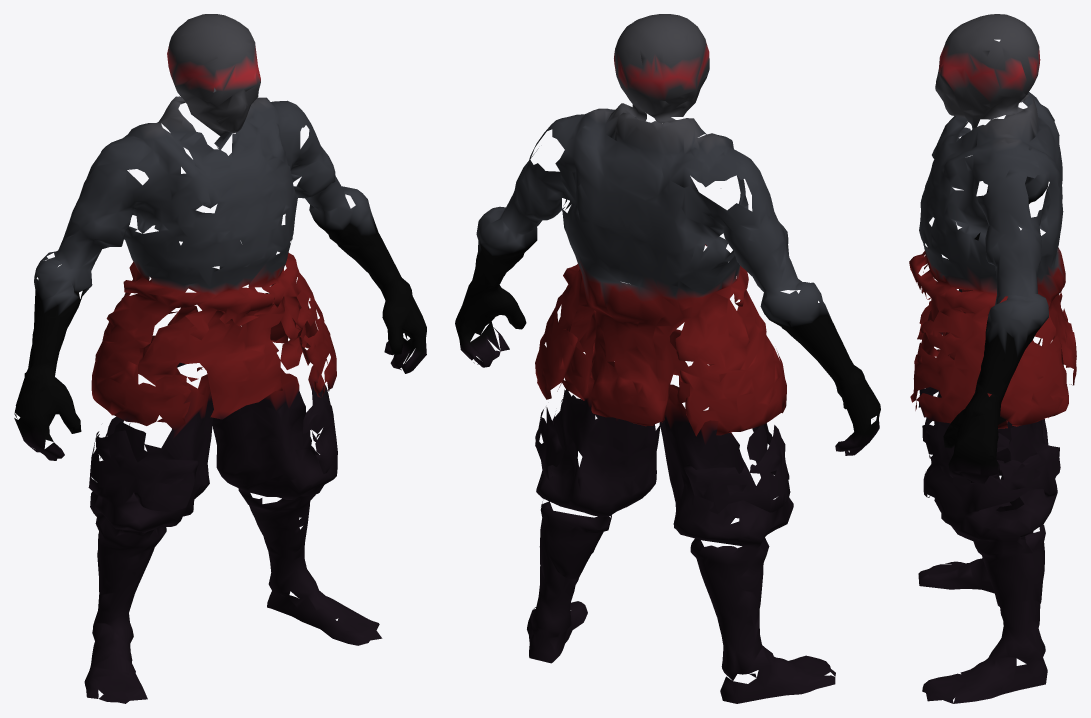
The model's file is yari_v1_colored.glb.
3 renders of one model, left to right at view 1: azimuth 30°, elevation 25°; view 2: azimuth 150°, elevation 25°; view 3: azimuth 270°, elevation 25°, orthographic. The views are drawn at different scales.
Parts seen in each view (by area): view 1: world; view 2: world; view 3: world.
Boxes of the visible parts, bbox=[...] form: world: bbox=[14, 14, 426, 703]; world: bbox=[455, 14, 880, 703]; world: bbox=[909, 14, 1076, 703].
Size of the model in its own units: 0.8471 by 1.25 by 0.3082.
